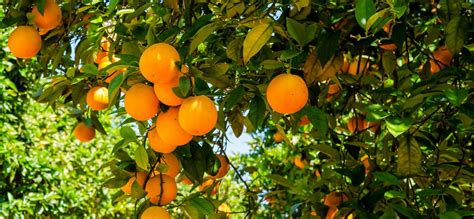orange: (265, 72, 311, 117), (138, 40, 181, 85), (178, 95, 220, 136), (124, 82, 161, 121), (8, 25, 41, 62), (26, 1, 64, 33), (143, 172, 179, 205), (87, 84, 113, 114)
